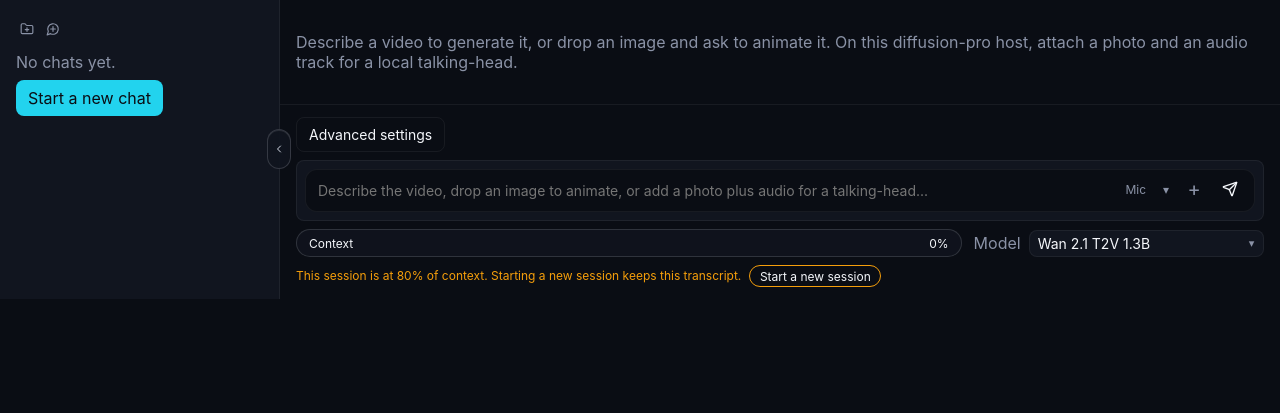
VideoLabPage (chat) › turns a complete event without an output path into a written failure
Step 1. Replace the text in the text box with test id "media-composer-textarea" with "fox" → point(780, 190), box x1=306 y1=170 x2=1254 y2=211
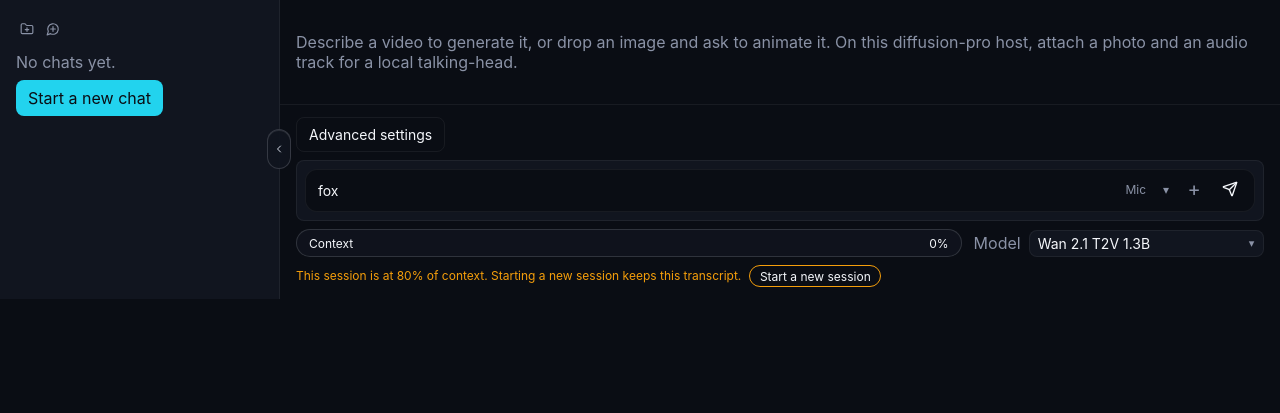
Step 2. Click the button with test id "media-composer-submit" → point(1230, 189), box x1=1214 y1=173 x2=1246 y2=205
Wait 40 ms
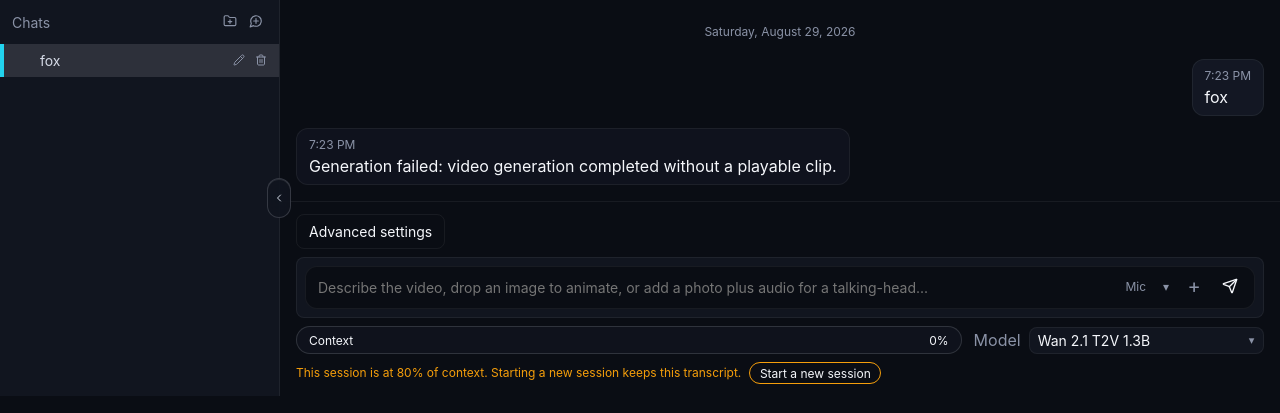
Now the text "Generation failed" is shown, box x1=309 y1=156 x2=836 y2=176
